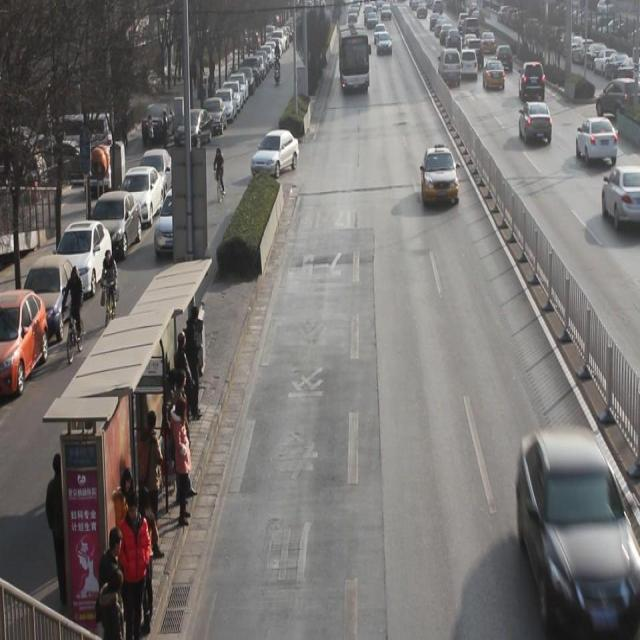car: (520, 434, 630, 610), (155, 190, 208, 256), (601, 164, 640, 228), (250, 129, 299, 177), (576, 116, 618, 166), (422, 145, 458, 203), (596, 77, 640, 116), (520, 100, 552, 143), (520, 61, 545, 100), (484, 57, 506, 90), (461, 49, 478, 78), (467, 38, 484, 66), (497, 43, 513, 72), (377, 32, 393, 56), (482, 31, 497, 53), (446, 28, 461, 48), (464, 16, 479, 34), (441, 23, 454, 43), (461, 10, 473, 30), (380, 1, 392, 20), (367, 10, 379, 28), (463, 34, 477, 49), (375, 23, 386, 40)
truck: (439, 49, 462, 85)
van: (337, 25, 368, 92)
